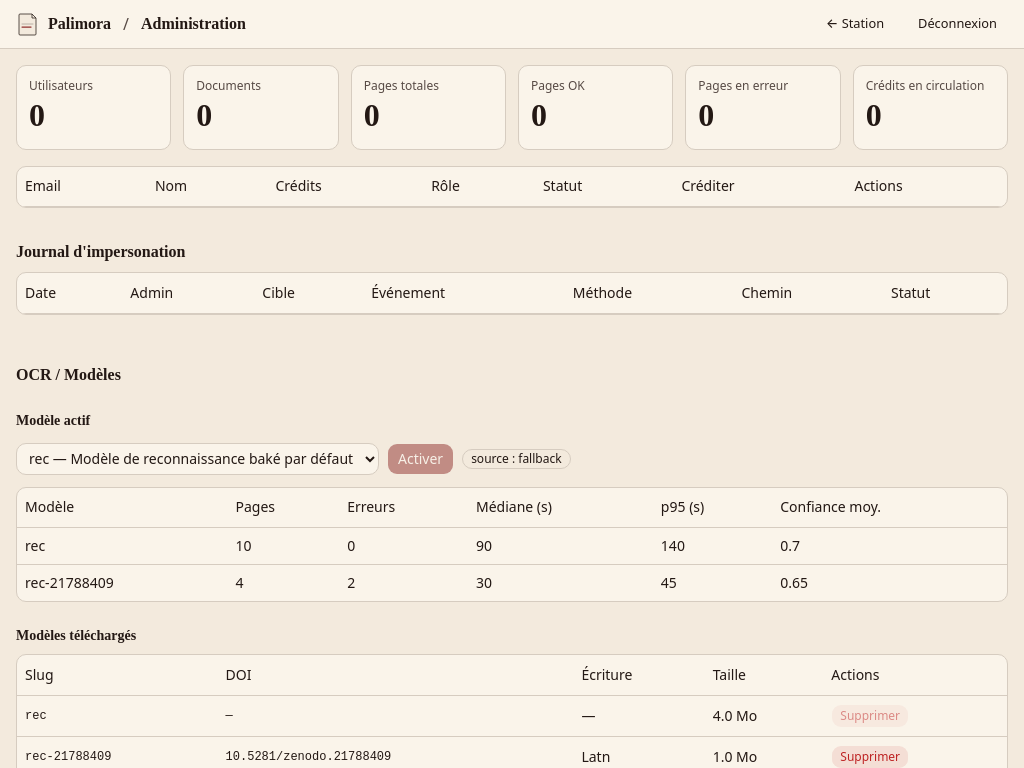
it: a relayed delete 409 shows the Kraken detail
Check: the heading "Modèles téléchargés" is shown, box x1=16 y1=628 x2=136 y2=643
What coordinates should you click on to do the following:
click the button "Supprimer" in the row of "10.5281/zenodo.21788409"
I would click on:
 (870, 757)
Its box is x1=831 y1=745 x2=909 y2=767.
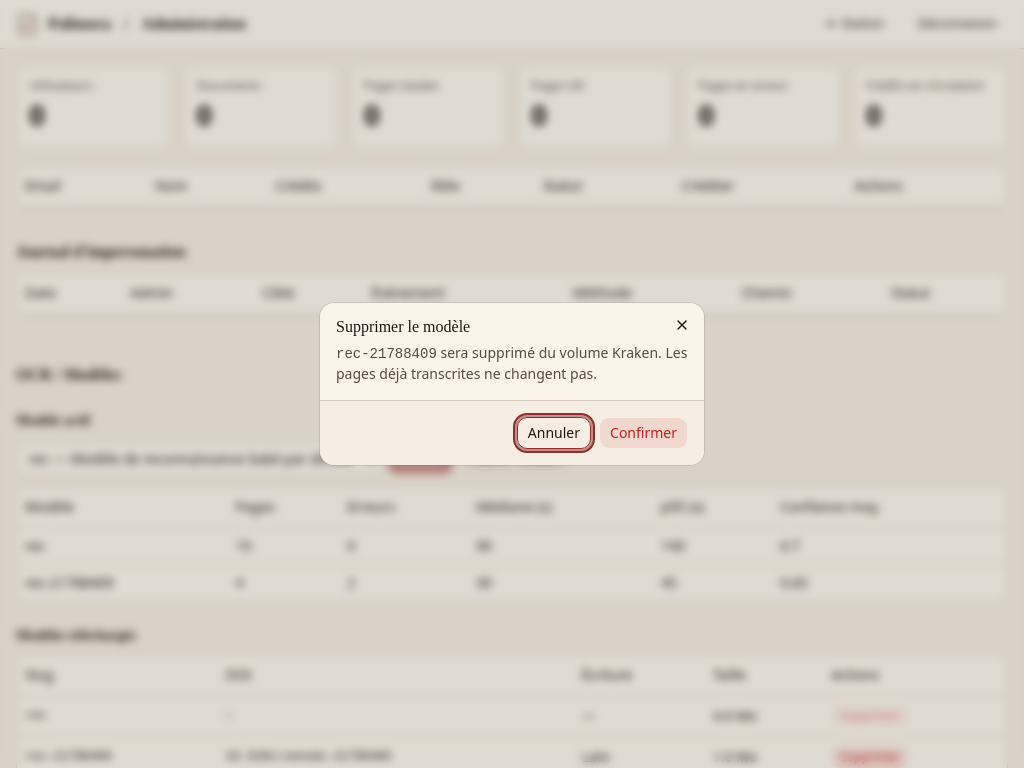
What coordinates should you click on to do the following:
click the button "Confirmer"
I would click on:
 (644, 433)
Its box is x1=599 y1=417 x2=688 y2=449.
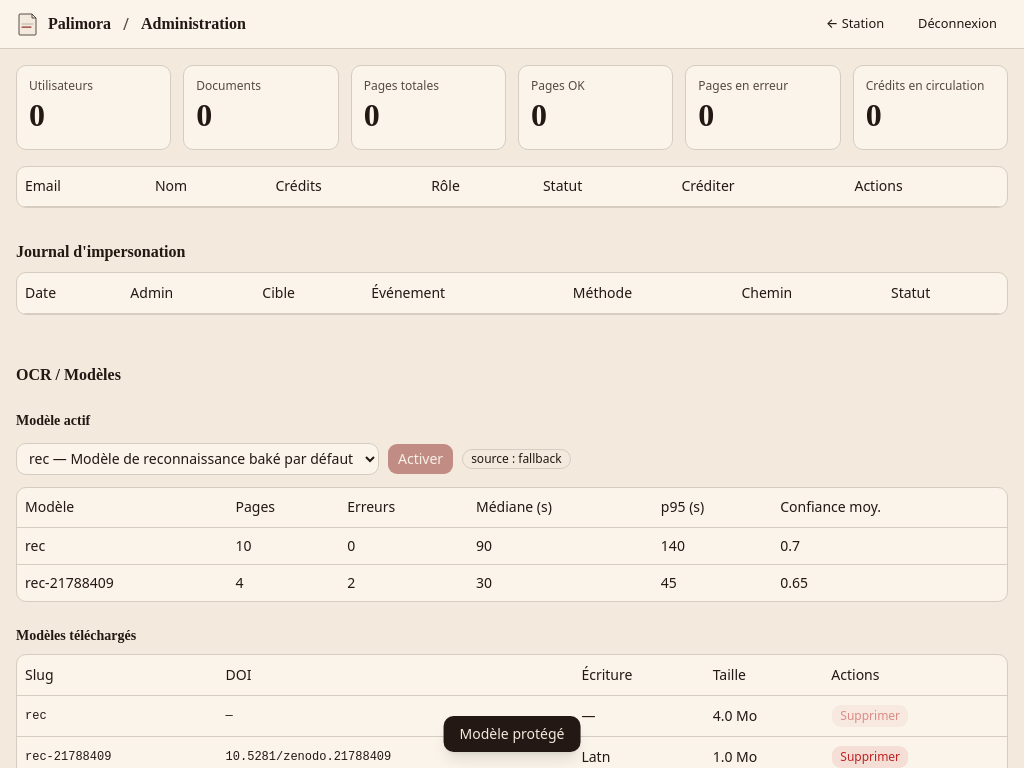
Check: the text "Modèle protégé" is shown, box x1=444 y1=716 x2=580 y2=752
